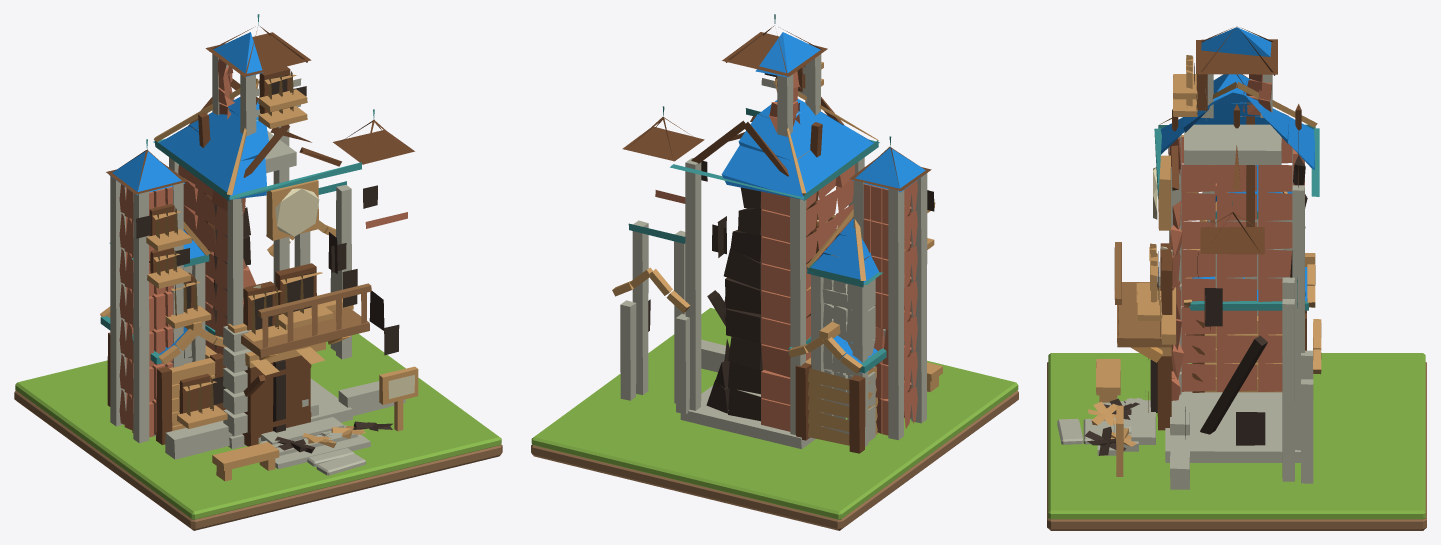
The model's file is town_hall_l11_damaged_LOD2.glb.
The picture shows the model from 3 angles, left to right: view 1: azimuth 30°, elevation 25°; view 2: azimuth 150°, elevation 25°; view 3: azimuth 270°, elevation 25°; orthographic projection. The views are drawn at different scales.
Visible parts, largest first — view 1: town_hall_l11_damaged_foundation.001, town_hall_l11_damaged_grass_tile.001, town_hall_l11_damaged_earth_tile.001, town_hall_l11_damaged_path_stone.005; view 2: town_hall_l11_damaged_foundation.001, town_hall_l11_damaged_grass_tile.001, town_hall_l11_damaged_earth_tile.001; view 3: town_hall_l11_damaged_foundation.001, town_hall_l11_damaged_grass_tile.001, town_hall_l11_damaged_earth_tile.001, town_hall_l11_damaged_path_stone.005.
Part boxes in pixels (x1=…): town_hall_l11_damaged_foundation.001: x1=100, y1=14, x2=418, y2=481; town_hall_l11_damaged_grass_tile.001: x1=15, y1=333, x2=501, y2=519; town_hall_l11_damaged_earth_tile.001: x1=14, y1=390, x2=502, y2=530; town_hall_l11_damaged_path_stone.005: x1=316, y1=453, x2=365, y2=475; town_hall_l11_damaged_foundation.001: x1=612, y1=14, x2=942, y2=453; town_hall_l11_damaged_grass_tile.001: x1=531, y1=308, x2=1018, y2=519; town_hall_l11_damaged_earth_tile.001: x1=531, y1=390, x2=1018, y2=530; town_hall_l11_damaged_foundation.001: x1=1085, y1=26, x2=1321, y2=489; town_hall_l11_damaged_grass_tile.001: x1=1048, y1=353, x2=1425, y2=519; town_hall_l11_damaged_earth_tile.001: x1=1047, y1=362, x2=1426, y2=530; town_hall_l11_damaged_path_stone.005: x1=1057, y1=418, x2=1083, y2=444.
Bounding box in the file's own units: 3.6 × 4.58 × 3.6.
